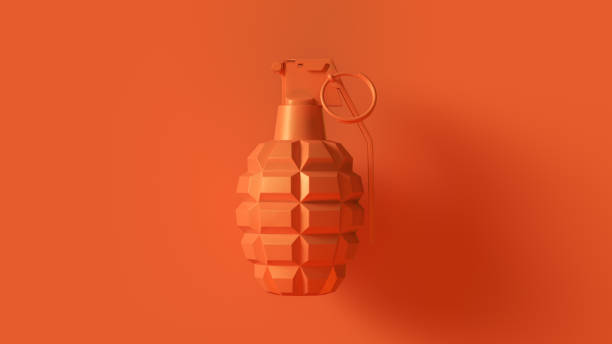e1: (235, 57, 380, 296)
